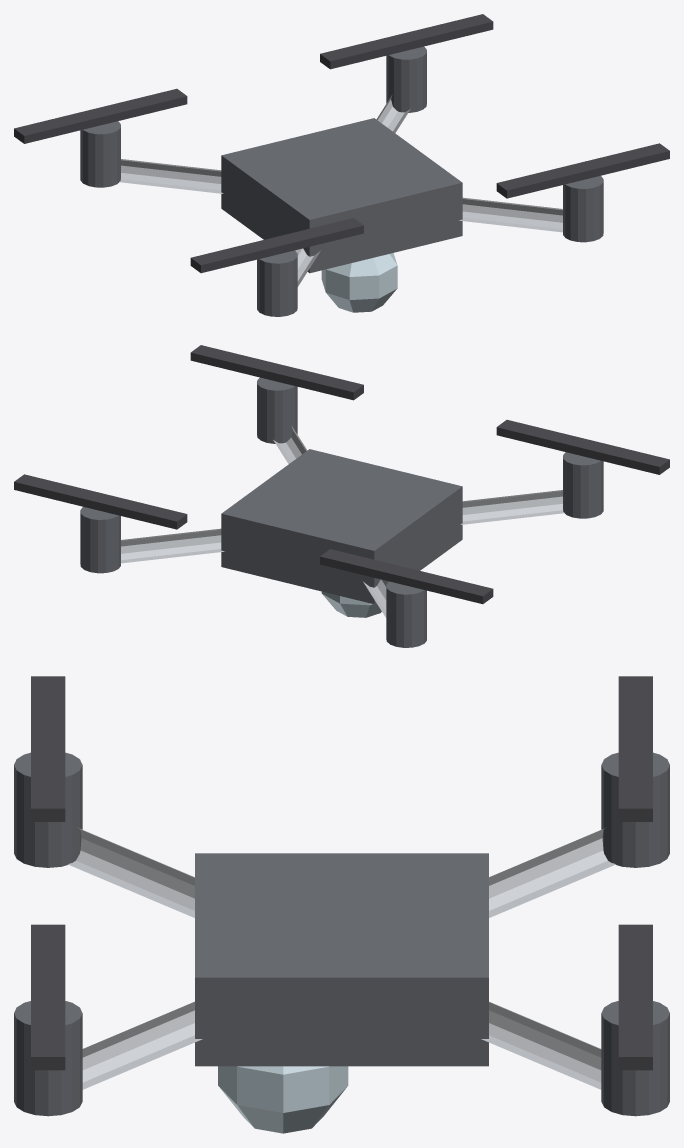
File: bank-vault-heist-kit-drone-camera-66305c9b__25116.glb
3 views of the same model, one above another, from view 1: azimuth 30°, elevation 25°; view 2: azimuth 150°, elevation 25°; view 3: azimuth 270°, elevation 25° (orthographic). The views are drawn at different scales.
Parts seen in each view (by area): view 1: drone-camera; view 2: drone-camera; view 3: drone-camera.
Boxes of the visible parts, box(x1,y1,x2,y2) form: drone-camera: box(14, 14, 669, 316); drone-camera: box(14, 345, 669, 647); drone-camera: box(14, 676, 669, 1133).
Size of the model in its own units: 0.92 by 0.295 by 0.67.
